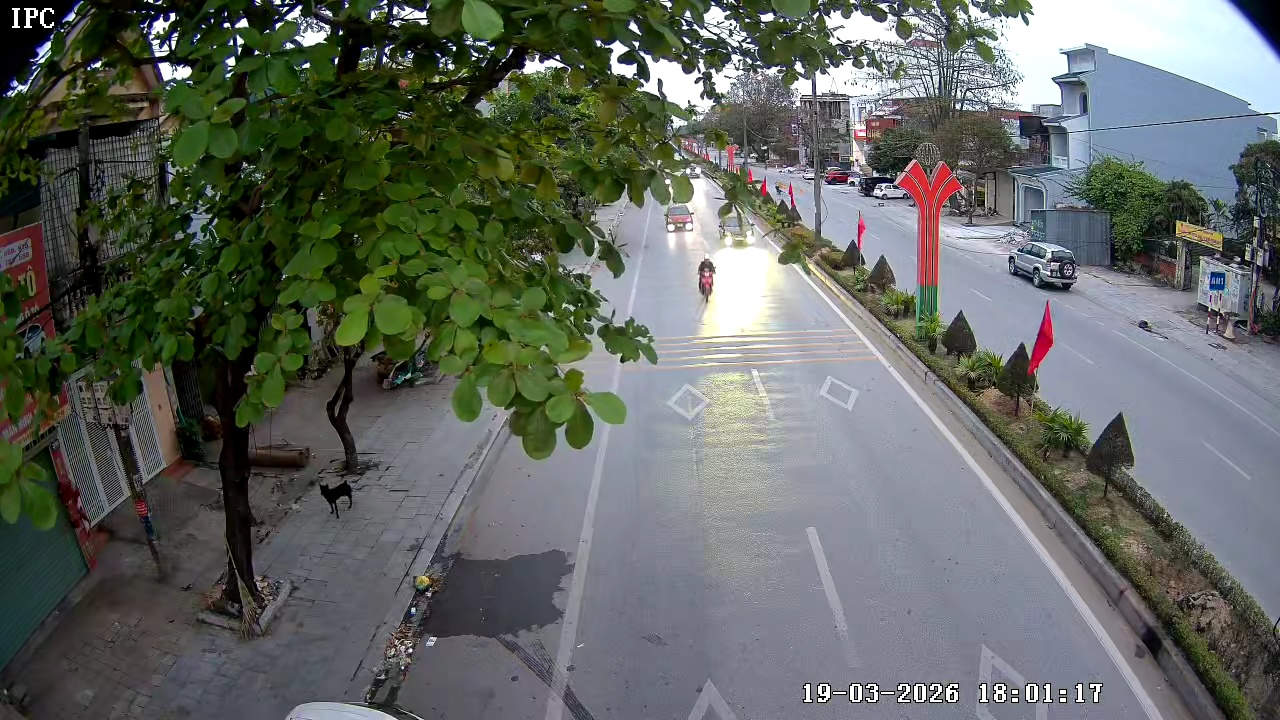car: (1007, 240, 1081, 291), (664, 202, 695, 233)
motorbike: (25, 0, 156, 84), (695, 253, 718, 303)
